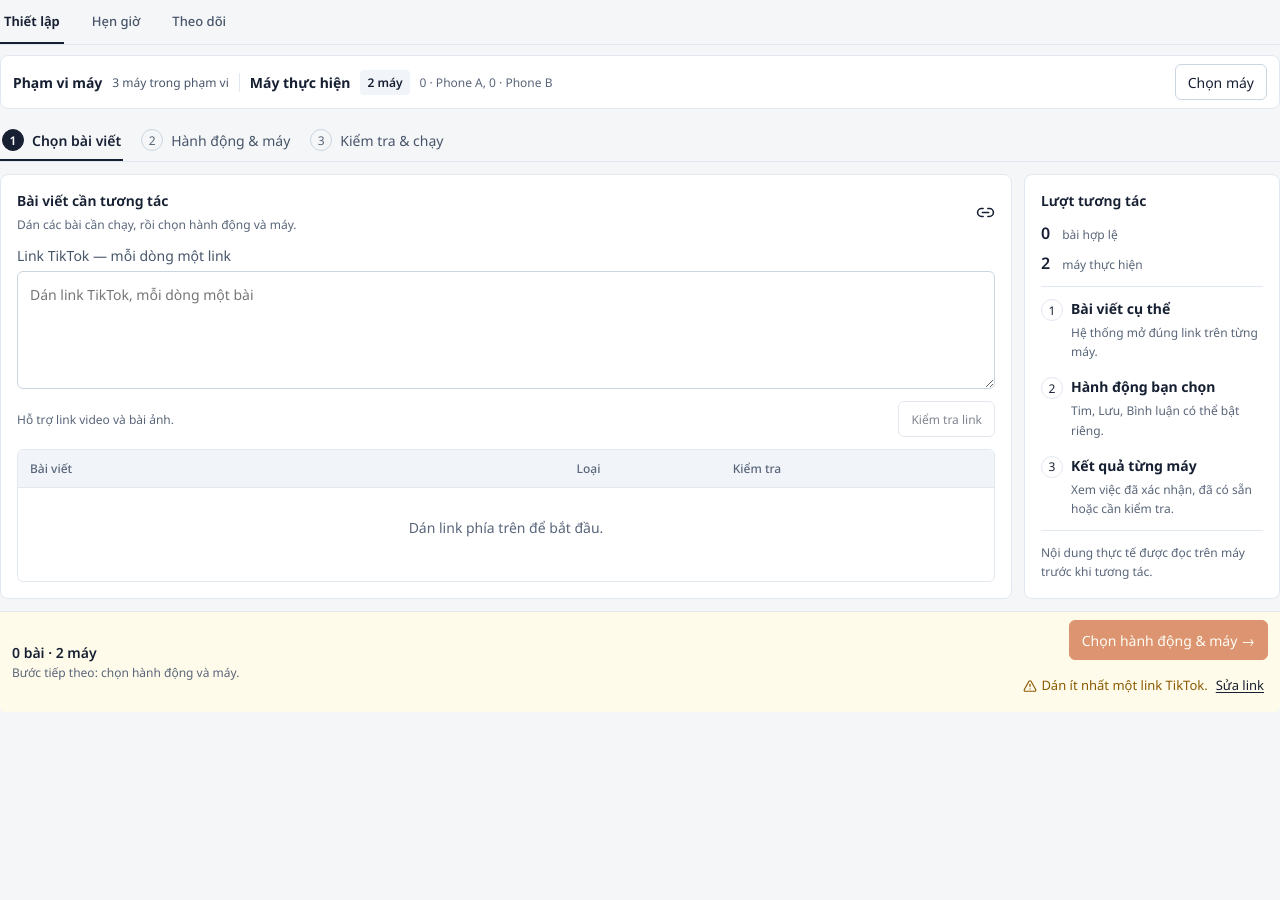
keeps actor choices when the compact picker closes and reopens without starting a run
Click the button "Chọn máy" at (1221, 82), box [1175, 64, 1267, 100]
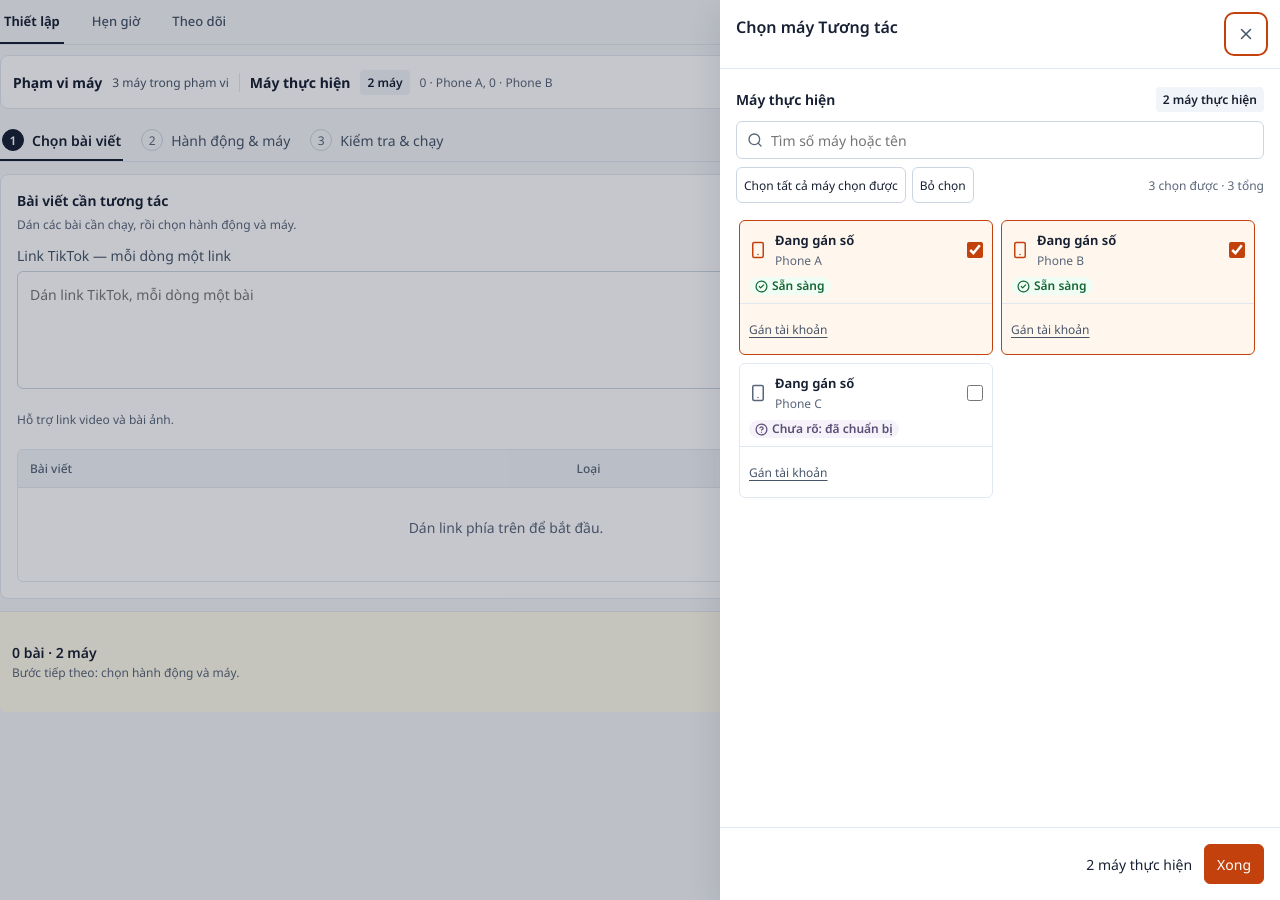
Click the button "Bỏ chọn" at (943, 185), box [912, 167, 974, 203]
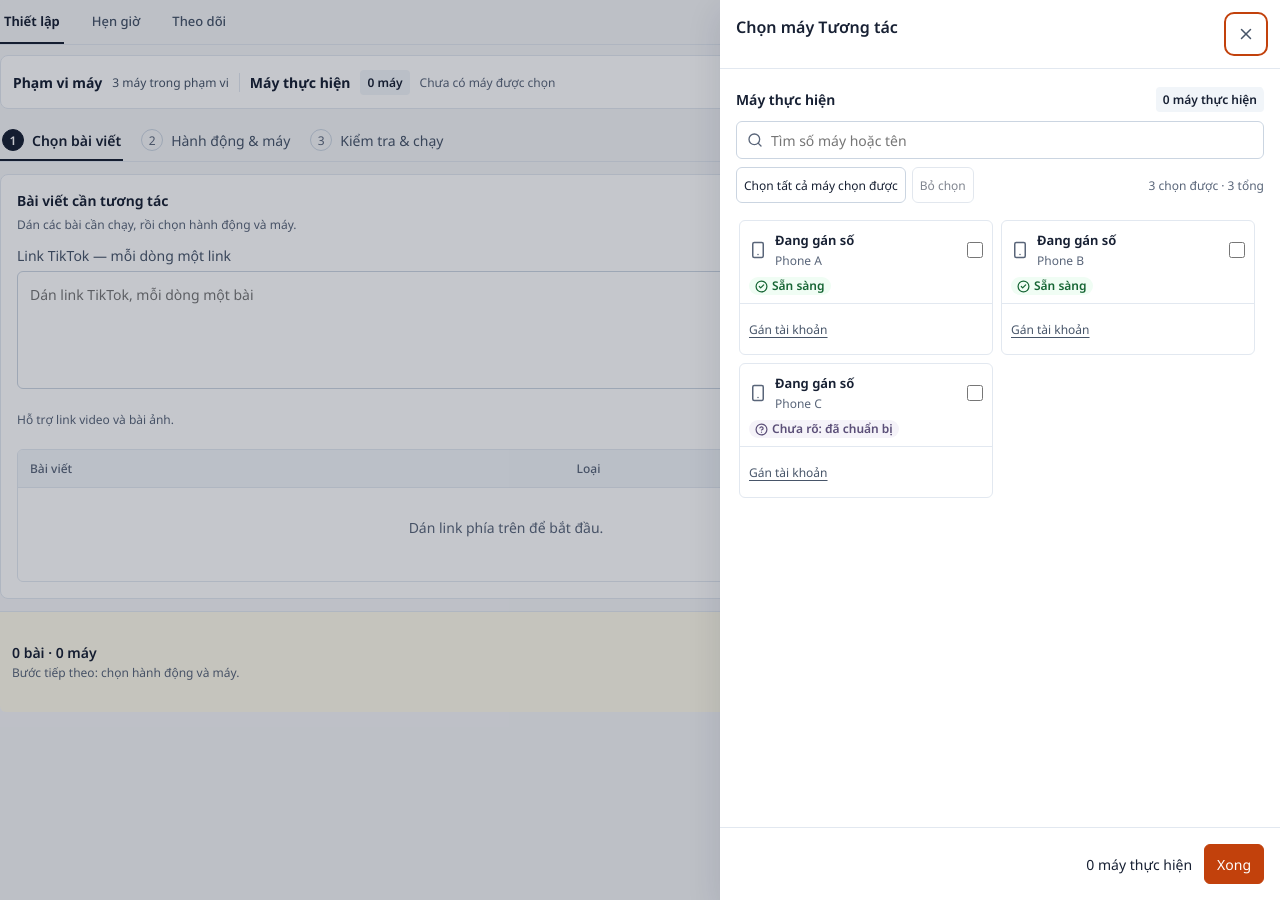
Click the checkbox labelled "Đang gán số Phone A" at (975, 250), box [967, 242, 983, 258]
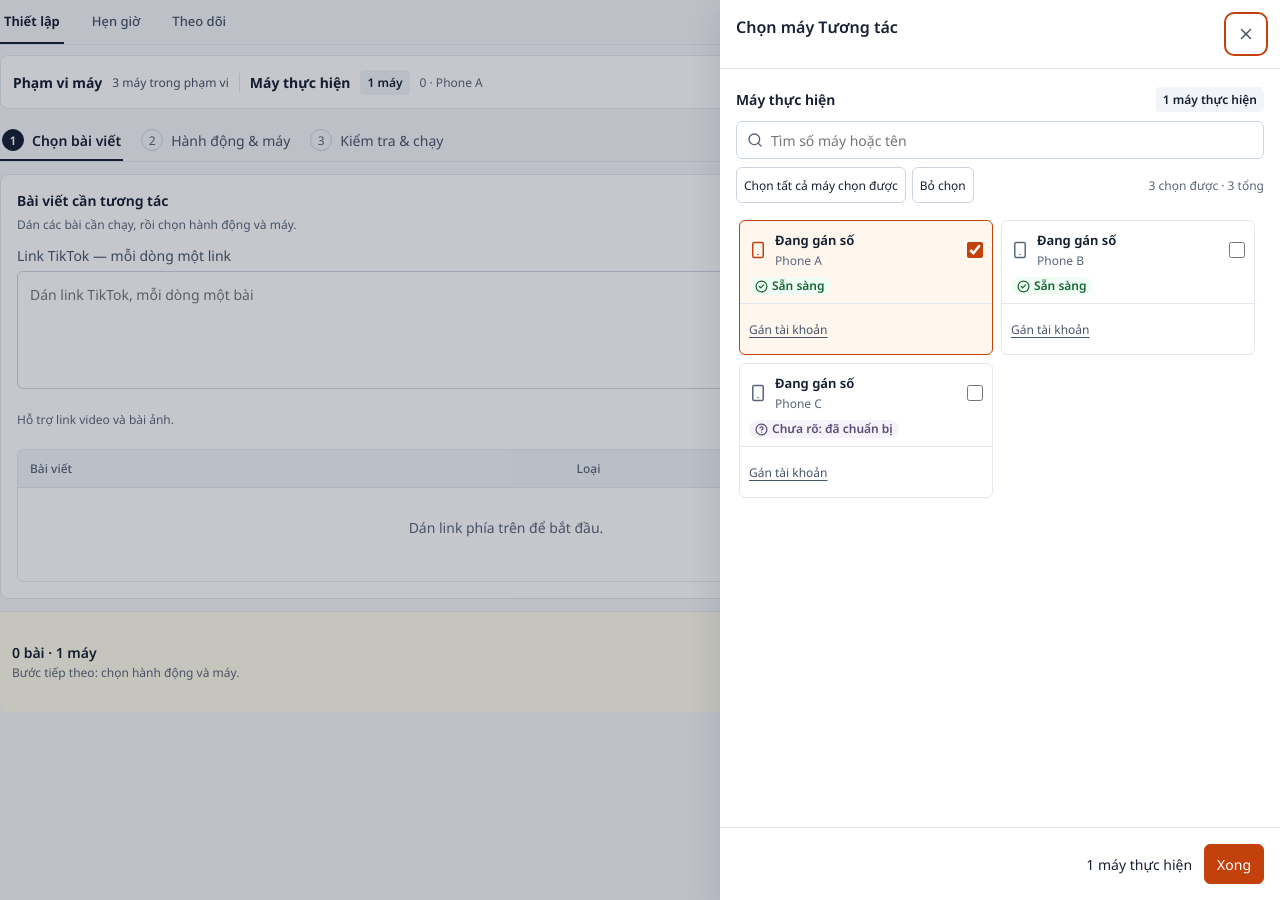
Click the button "Xong" at (1234, 864), box [1204, 844, 1264, 884]
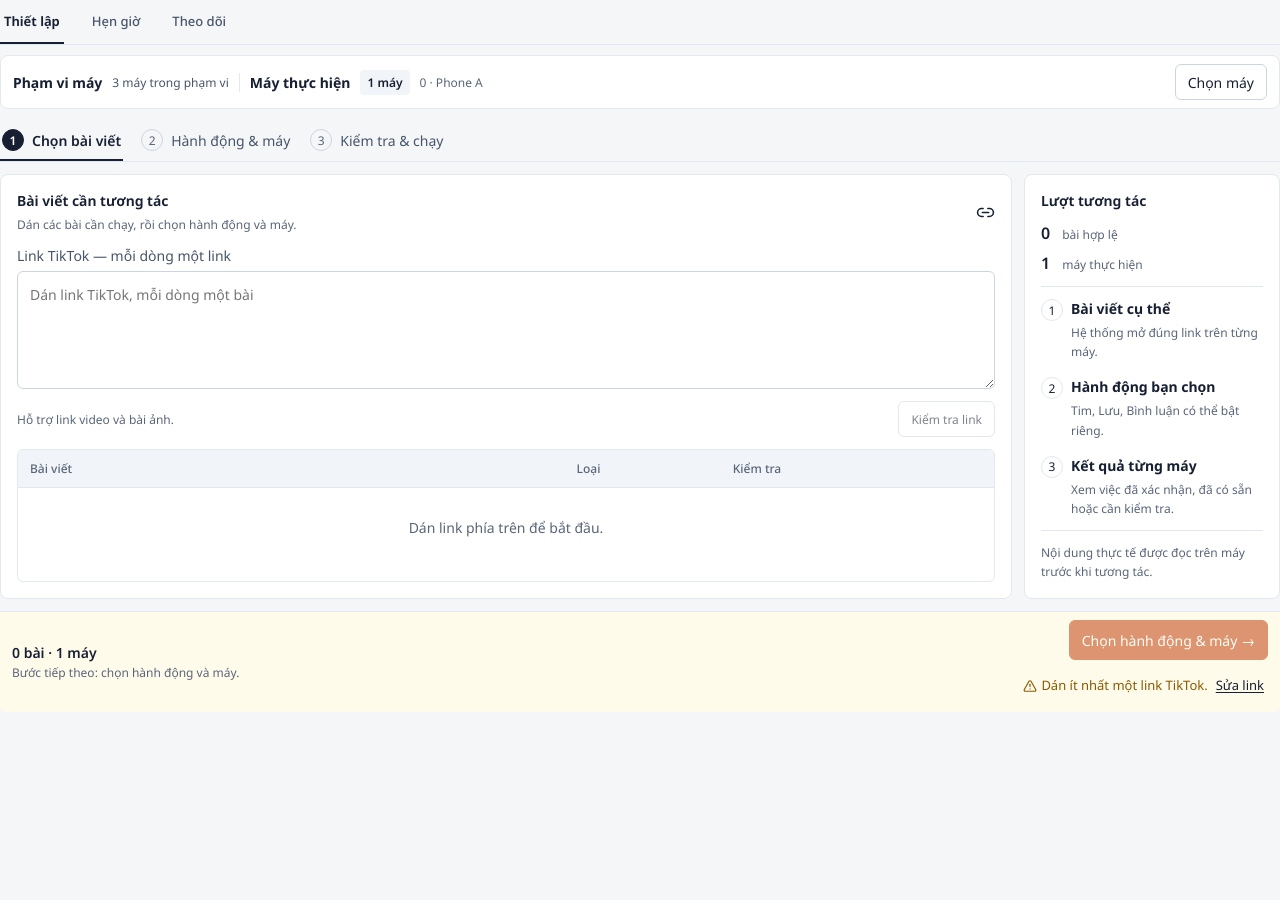
Result: the dialog is gone
Click the button "Chọn máy" at (1221, 82), box [1175, 64, 1267, 100]
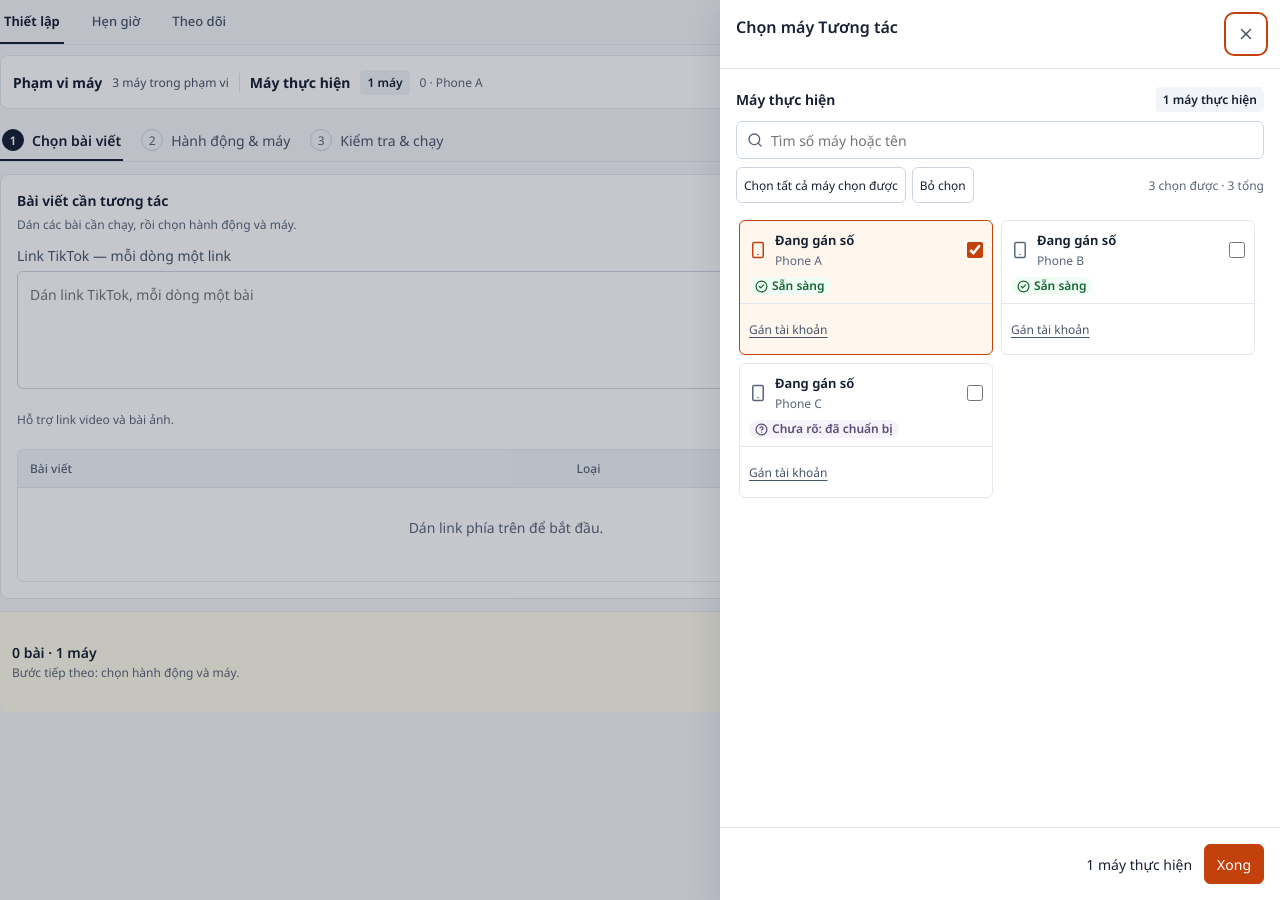
Result: the checkbox labelled "Đang gán số Phone A" is checked at [967, 242, 983, 258]
Result: the checkbox labelled "Đang gán số Phone B" is not checked at [1229, 242, 1245, 258]
